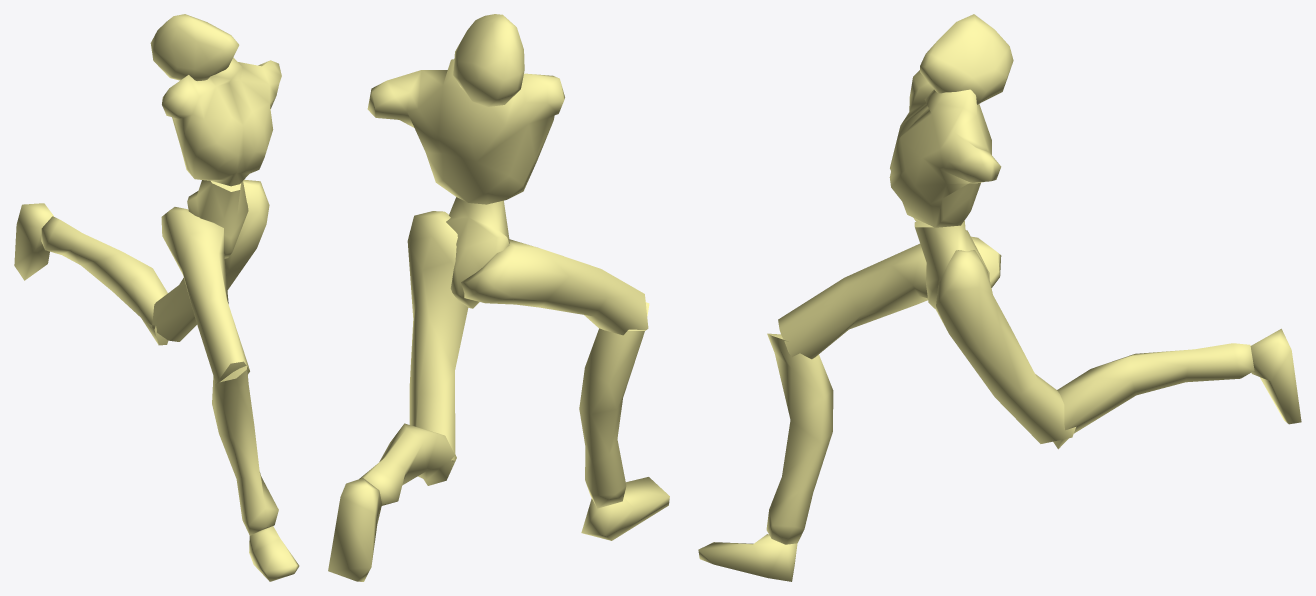
Rendered from filth22.obj.
The picture shows the model from 3 angles, left to right: view 1: azimuth 30°, elevation 25°; view 2: azimuth 150°, elevation 25°; view 3: azimuth 270°, elevation 25°; orthographic projection. The views are drawn at different scales.
Visible parts, largest first — view 1: Melee_Husk; view 2: Melee_Husk; view 3: Melee_Husk.
Boxes of the visible parts, box(x1,y1,x2,y2) form: Melee_Husk: box(14, 14, 299, 581); Melee_Husk: box(328, 14, 669, 581); Melee_Husk: box(698, 14, 1301, 581).
Bounding box in the file's own units: 21.76 × 69.41 × 67.47.
